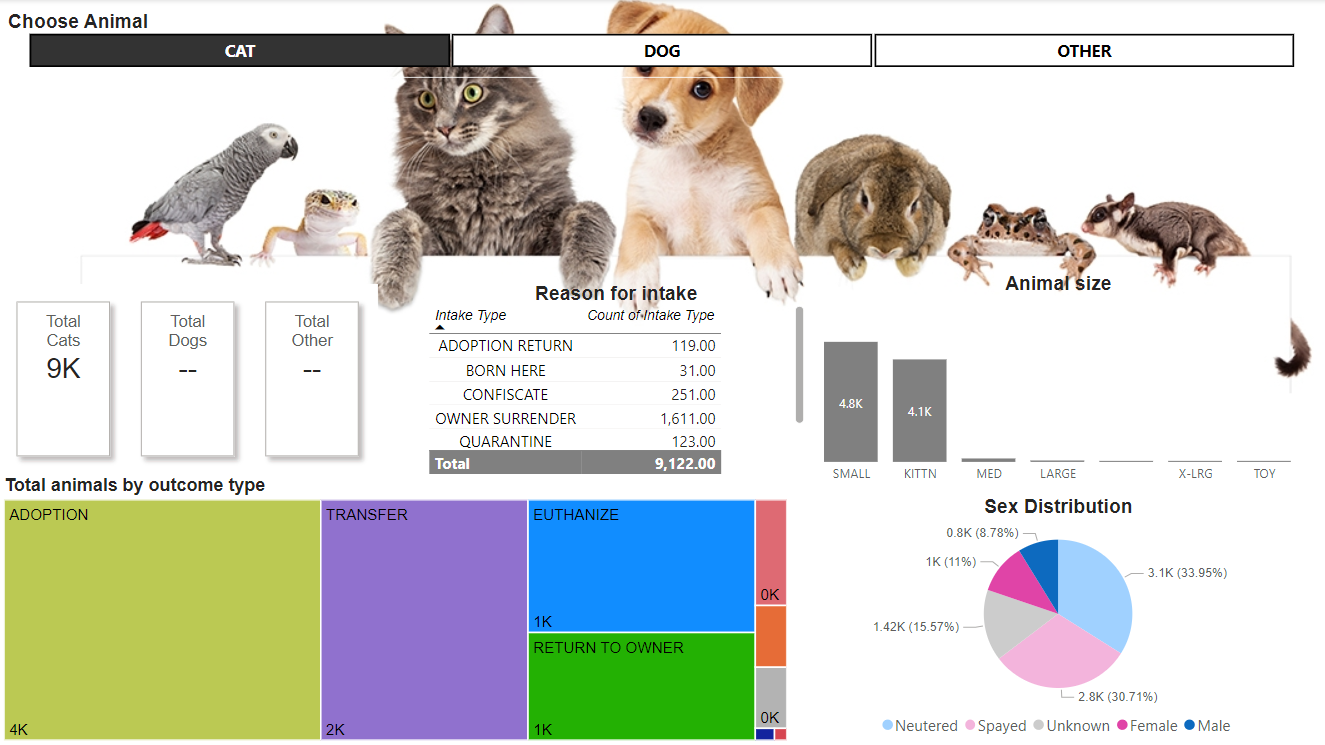

The dashboard page shown, as its layout file describes it:
{"tool":"powerbi","page":{"name":"Page 1","canvas":[1280,720],"ordinal":0},"visuals":[{"type":"slicer","title":"Animal Type","fields":{"Values":["Animal_Shelter_Intake_and_Outcome (1).Type"]},"box":[12.1,24.1,1256.7,86.8],"z":0},{"type":"pieChart","title":"Sex Distribution","fields":{"Category":["Animal_Shelter_Intake_and_Outcome (1).Sex"],"Y":["CountNonNull(Animal_Shelter_Intake_and_Outcome (1).Sex)"]},"box":[831,394.4,423.3,318.4],"z":1000},{"type":"tableEx","title":"Reason for intake","fields":{"Values":["Animal_Shelter_Intake_and_Outcome (1).Intake Type1","Animal_Shelter_Intake_and_Outcome (1).Intake Type"]},"box":[387.1,111,387.1,267.7],"z":2000},{"type":"columnChart","title":"Animal size","fields":{"Category":["Animal_Shelter_Intake_and_Outcome (1).Size"],"Y":["CountNonNull(Animal_Shelter_Intake_and_Outcome (1).Size)"]},"box":[774.3,144.7,505.3,234],"z":3000},{"type":"treemap","title":"Total days in shelter by outcome type","fields":{"Values":["Count(Animal_Shelter_Intake_and_Outcome (1).Days in Shelter)"],"Group":["Animal_Shelter_Intake_and_Outcome (1).Outcome Type"]},"box":[0,394.4,742.9,325.6],"z":4000},{"type":"cardVisual","fields":{"Data":["Animal_Shelter_Intake_and_Outcome (1).Total Cats","Animal_Shelter_Intake_and_Outcome (1).Total Dogs","Animal_Shelter_Intake_and_Outcome (1).Total Other"]},"box":[12.1,121.8,387.1,256.9],"z":5000}]}

Visuals, with their boxes in screenshot pixels (x1, y1, x2, y2), scaled from the page's 1280x720 canvas onto the 1325x745 screenshot:
"Animal Type" slicer: rect(13, 25, 1313, 115)
"Sex Distribution" pieChart: rect(860, 408, 1298, 738)
"Reason for intake" tableEx: rect(401, 115, 801, 392)
"Animal size" columnChart: rect(802, 150, 1324, 392)
"Total days in shelter by outcome type" treemap: rect(0, 408, 769, 744)
cardVisual - Animal_Shelter_Intake_and_Outcome (1).Total Cats x Animal_Shelter_Intake_and_Outcome (1).Total Dogs: rect(13, 126, 413, 392)
